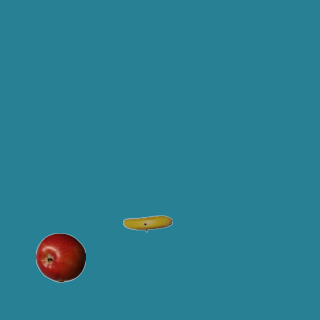Apple Braeburn: (35, 232, 85, 282)
Banana: (122, 198, 172, 248)
